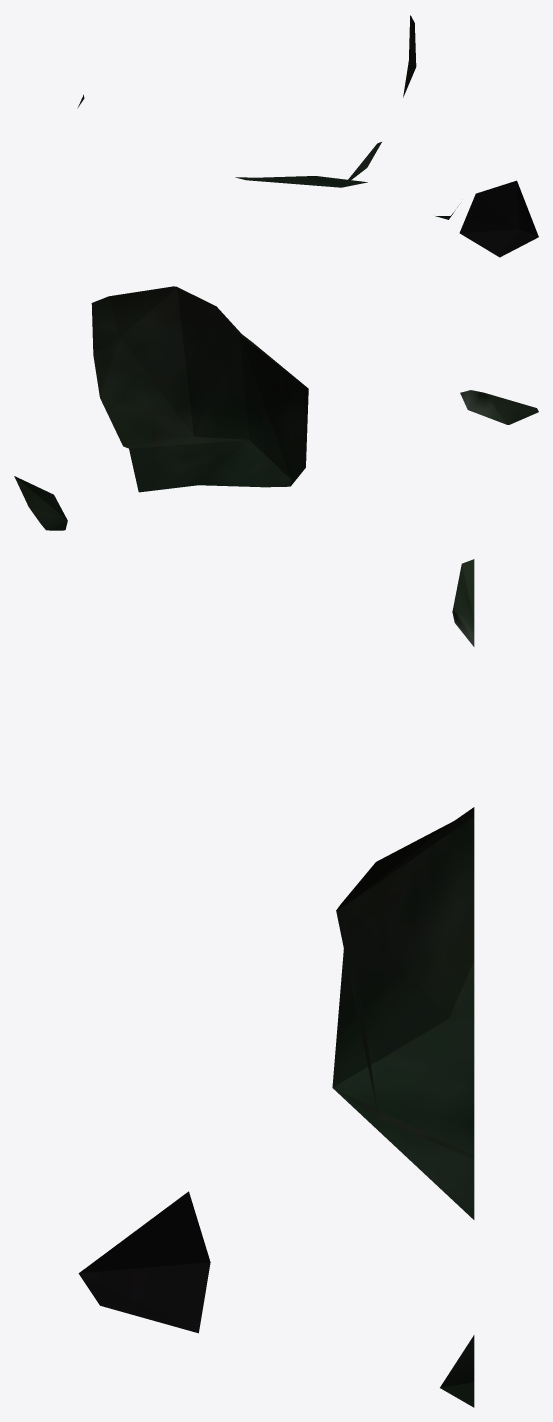
3 renders of one model, top to bottom at view 1: azimuth 30°, elevation 25°; view 2: azimuth 150°, elevation 25°; view 3: azimuth 270°, elevation 25°, orthographic. The views are drawn at different scales.
Size of the model in its own units: 0.4869 by 0.2114 by 0.1794.
Materials: 1 (1 with a texture image).
